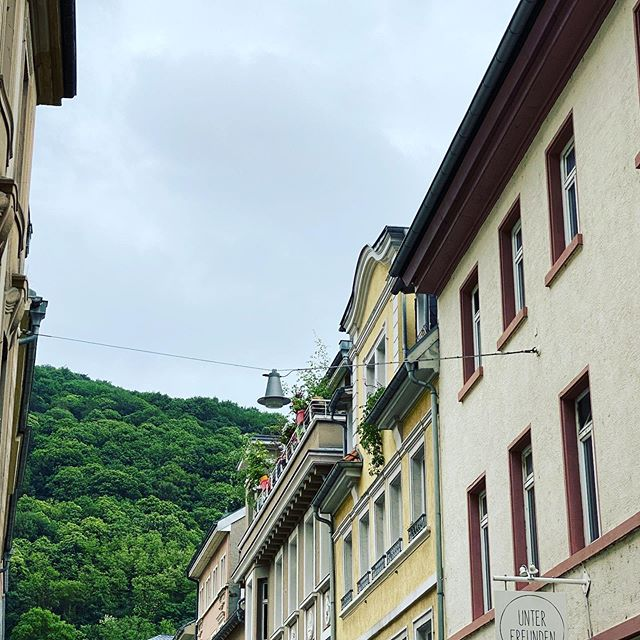building: (452, 103, 640, 640), (339, 276, 442, 640), (238, 353, 352, 640), (191, 515, 250, 640)
sky: (53, 1, 493, 361)
vegetation: (43, 374, 223, 636)
